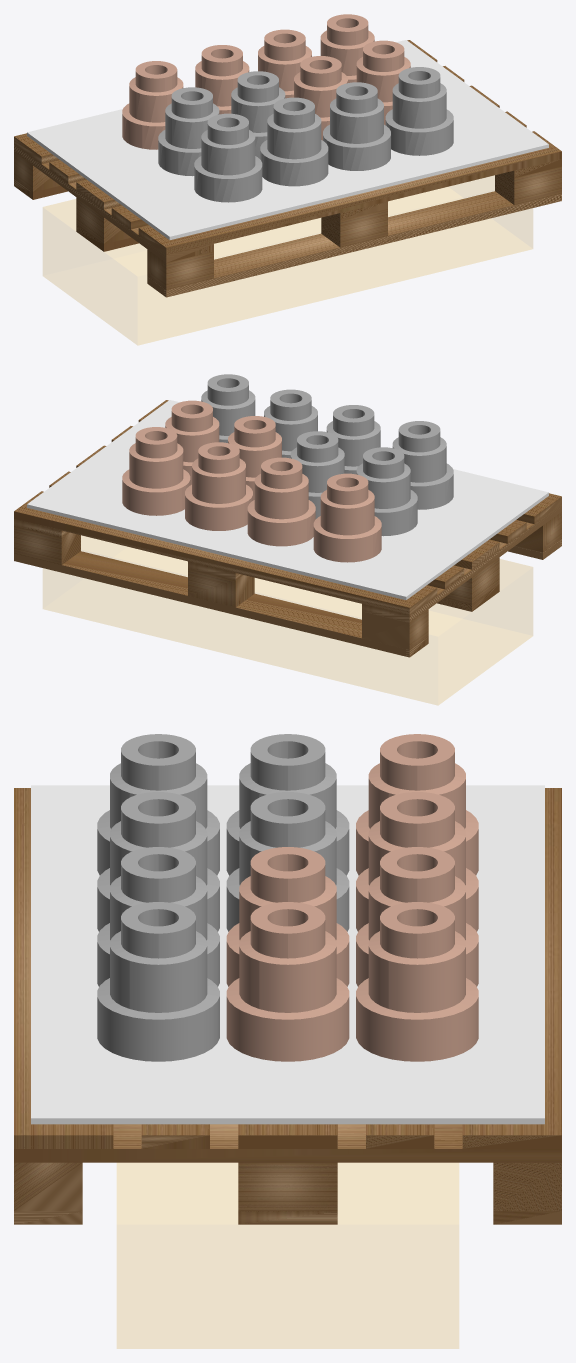
File: Feeder with Pallet and Sleeves.glb
3 views of the same model, one above another, from view 1: azimuth 30°, elevation 25°; view 2: azimuth 150°, elevation 25°; view 3: azimuth 270°, elevation 25° (orthographic). The views are drawn at different scales.
Parts seen in each view (by area): view 1: Mesh [04hg], Mesh [052g], Mesh [04zg], Mesh [04mg], Mesh [053g], Mesh [056g], Mesh [059g], Mesh [058g], Mesh [055g], Mesh [054g], Mesh [057g], Mesh [05Cg] (+18 smaller); view 2: Mesh [04hg], Mesh [052g], Mesh [04yg], Mesh [04ig], Mesh [055g], Mesh [05Cg], Mesh [05Eg], Mesh [05Dg], Mesh [053g], Mesh [054g], Mesh [057g], Mesh [056g] (+18 smaller); view 3: Mesh [052g], Mesh [04hg], Mesh [05Bg], Mesh [059g], Mesh [05Eg], Mesh [050g], Mesh [04ig], Mesh [04mg], Mesh [054g], Mesh [053g], Mesh [055g], Mesh [057g] (+14 smaller).
Part boxes in pixels (x1,y1,x2,y2): Mesh [04hg]: [43, 176, 532, 344]; Mesh [052g]: [27, 40, 548, 239]; Mesh [04zg]: [147, 191, 561, 297]; Mesh [04mg]: [138, 131, 561, 255]; Mesh [053g]: [194, 113, 262, 202]; Mesh [056g]: [260, 97, 328, 186]; Mesh [059g]: [385, 67, 453, 155]; Mesh [058g]: [323, 82, 390, 170]; Mesh [055g]: [122, 61, 183, 149]; Mesh [054g]: [158, 87, 219, 176]; Mesh [057g]: [231, 71, 285, 158]; Mesh [05Cg]: [195, 45, 249, 114]; Mesh [04hg]: [43, 536, 532, 704]; Mesh [052g]: [27, 400, 548, 599]; Mesh [04yg]: [14, 551, 428, 657]; Mesh [04ig]: [14, 491, 437, 615]; Mesh [055g]: [313, 473, 381, 562]; Mesh [05Cg]: [247, 457, 315, 546]; Mesh [05Eg]: [122, 427, 190, 515]; Mesh [05Dg]: [185, 442, 252, 530]; Mesh [053g]: [392, 421, 453, 509]; Mesh [054g]: [356, 447, 417, 536]; Mesh [057g]: [290, 431, 344, 518]; Mesh [056g]: [326, 405, 380, 474]; Mesh [052g]: [31, 785, 544, 1124]; Mesh [04hg]: [117, 1163, 458, 1348]; Mesh [05Bg]: [226, 902, 349, 1061]; Mesh [059g]: [97, 902, 219, 1061]; Mesh [05Eg]: [356, 902, 478, 1061]; Mesh [050g]: [14, 1124, 561, 1162]; Mesh [04ig]: [462, 788, 561, 1148]; Mesh [04mg]: [14, 788, 113, 1148]; Mesh [054g]: [226, 734, 349, 875]; Mesh [053g]: [97, 734, 219, 875]; Mesh [055g]: [356, 734, 478, 875]; Mesh [057g]: [226, 792, 349, 931].
Size of the model in its own units: 1.2 by 0.55 by 0.8.
6 materials, 1 textured.
